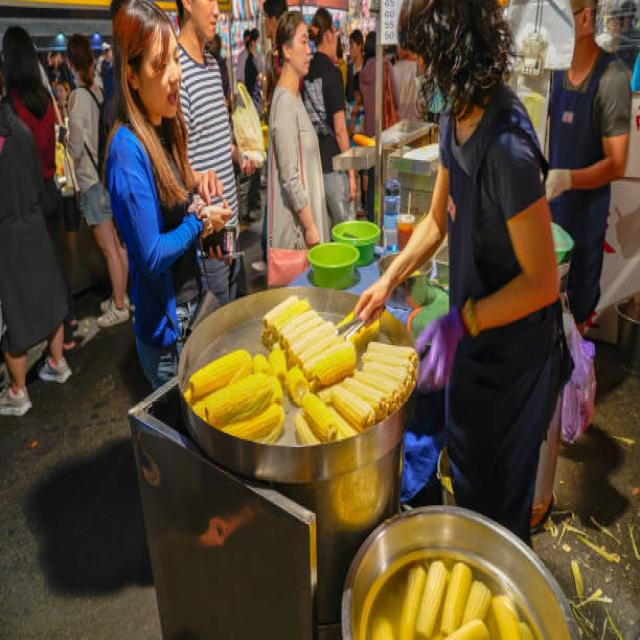Emperan: (77, 195, 640, 640)
